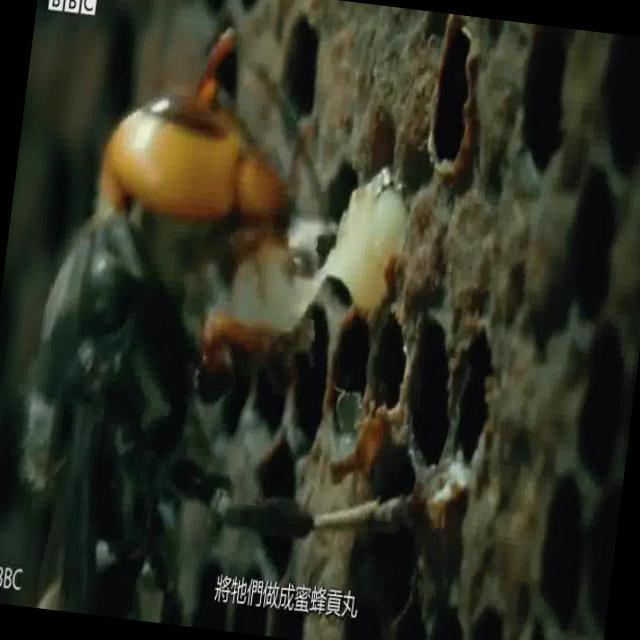Wasp: (10, 32, 412, 569)
